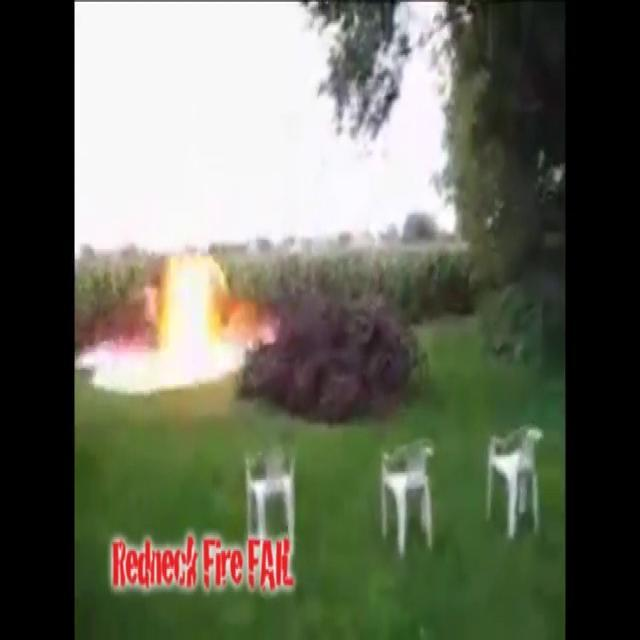Fire: (140, 242, 250, 396)
